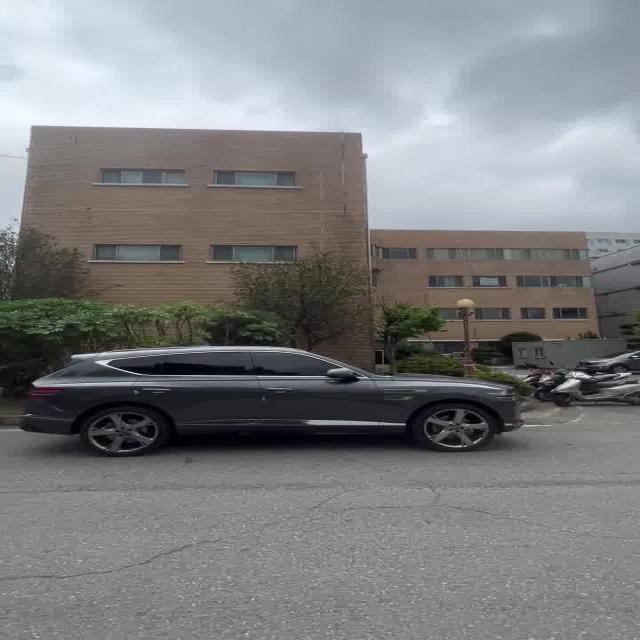building: (36, 125, 612, 330)
